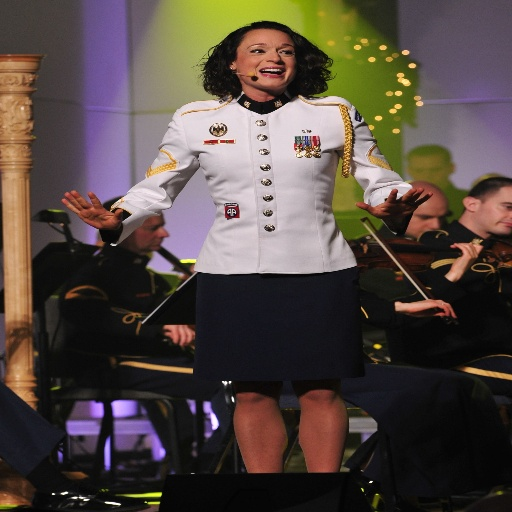hand: (353, 188, 432, 221), (61, 189, 116, 230), (403, 298, 456, 318), (448, 241, 481, 271), (161, 323, 193, 346), (180, 264, 196, 278)
